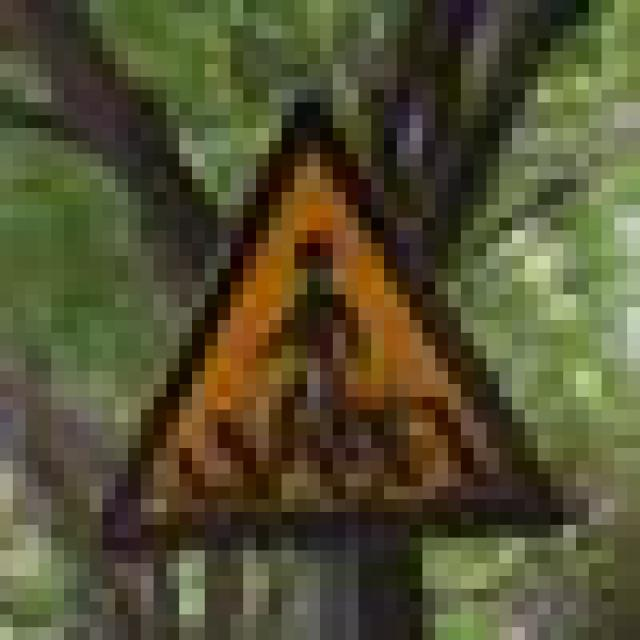PEDESTRIAN_CROSSING: (98, 90, 560, 547)
